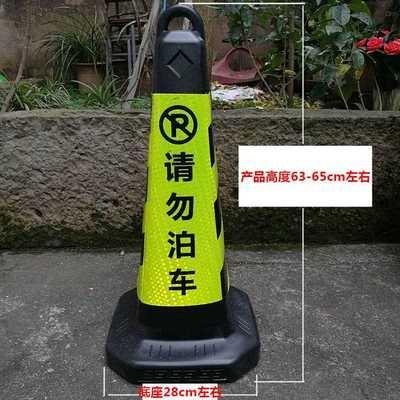cone_barrel: (110, 12, 246, 369)
